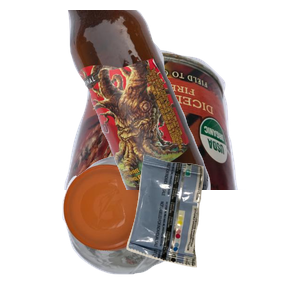glass: (65, 10, 300, 190)
metal: (62, 47, 300, 227)
plastic: (60, 152, 237, 300)
trash: (124, 152, 300, 300)
